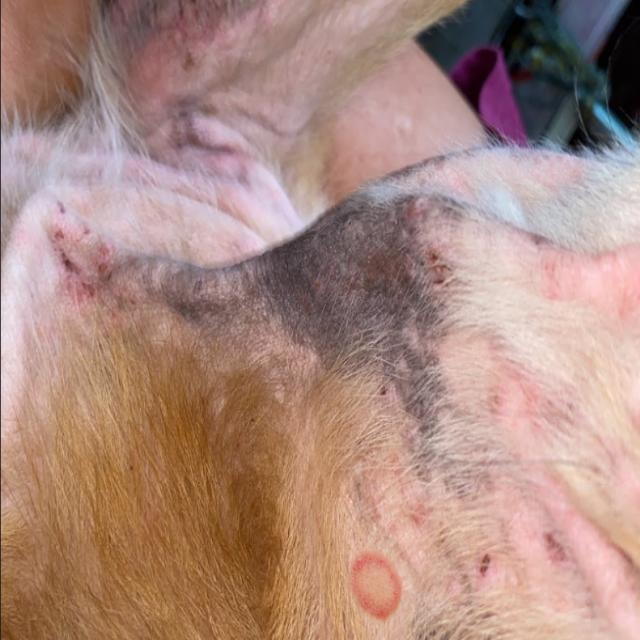ringworm: (334, 538, 414, 625)
